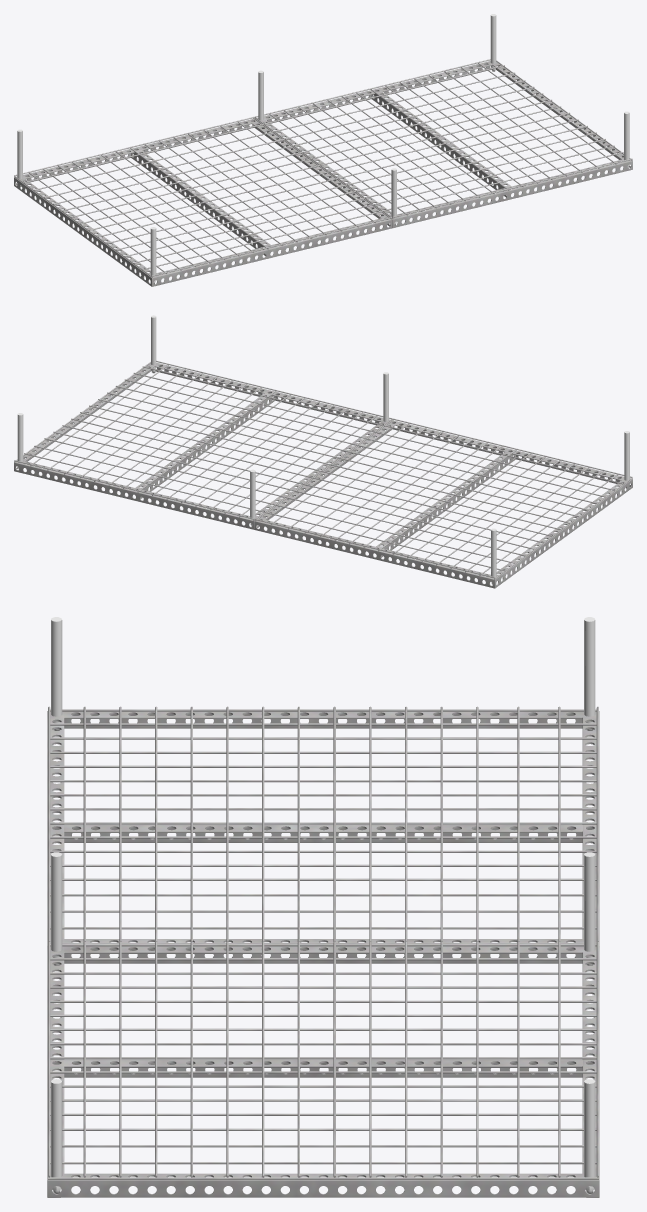
3 renders of one model, top to bottom at view 1: azimuth 30°, elevation 25°; view 2: azimuth 150°, elevation 25°; view 3: azimuth 270°, elevation 25°, orthographic. The views are drawn at different scales.
Parts seen in each view (by area): view 1: Grill2, Rods2; view 2: Grill2, Rods2; view 3: Grill2, Rods2.
Boxes of the visible parts, x1=… form: Grill2: x1=14, y1=59, x2=632, y2=286; Rods2: x1=17, y1=14, x2=629, y2=284; Grill2: x1=14, y1=360, x2=632, y2=588; Rods2: x1=17, y1=315, x2=629, y2=585; Grill2: x1=47, y1=706, x2=599, y2=1197; Rods2: x1=51, y1=617, x2=595, y2=1193.
Bounding box in the file's own units: 62.24 × 6.97 × 30.94.
2 materials, 2 textured.
